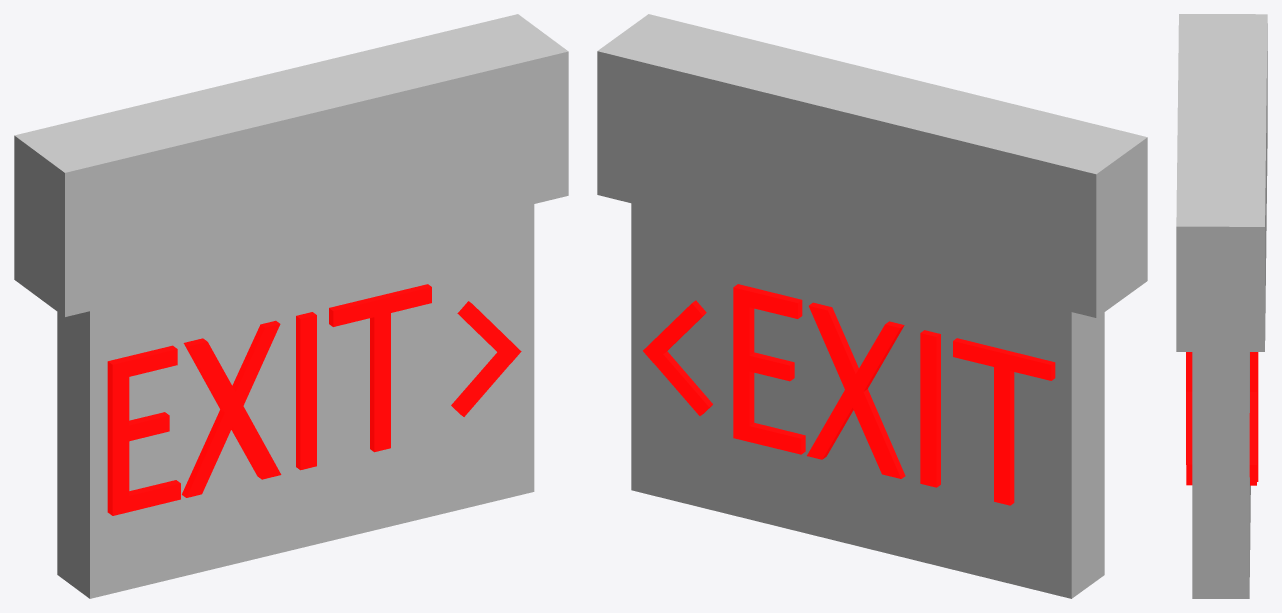
The model's file is Exit-sign-left.fbx.
3 renders of one model, left to right at view 1: azimuth 30°, elevation 25°; view 2: azimuth 150°, elevation 25°; view 3: azimuth 270°, elevation 25°, orthographic. The views are drawn at different scales.
Parts seen in each view (by area): view 1: pCube28, pCube29, typeMesh2, pCube63, pCube62; view 2: pCube28, pCube29, typeMesh1, pCube63, pCube62; view 3: pCube29, pCube28, pCube62 (×2), typeMesh1, typeMesh2.
Boxes of the visible parts, x1,y1,x2,y2 form: pCube28: (57, 204, 534, 598); pCube29: (14, 14, 568, 316); typeMesh2: (107, 284, 431, 515); pCube63: (451, 342, 520, 416); pCube62: (457, 301, 521, 363); pCube28: (631, 203, 1104, 598); pCube29: (597, 14, 1147, 317); typeMesh1: (733, 284, 1055, 505); pCube63: (644, 342, 712, 415); pCube62: (643, 300, 706, 362); pCube29: (1176, 14, 1267, 351); pCube28: (1192, 352, 1250, 598); pCube62 (×2): (1186, 391, 1256, 468); typeMesh1: (1250, 352, 1258, 481); typeMesh2: (1186, 352, 1192, 464).
Bounding box in the file's own units: 3.97 × 3.33 × 0.7193.
